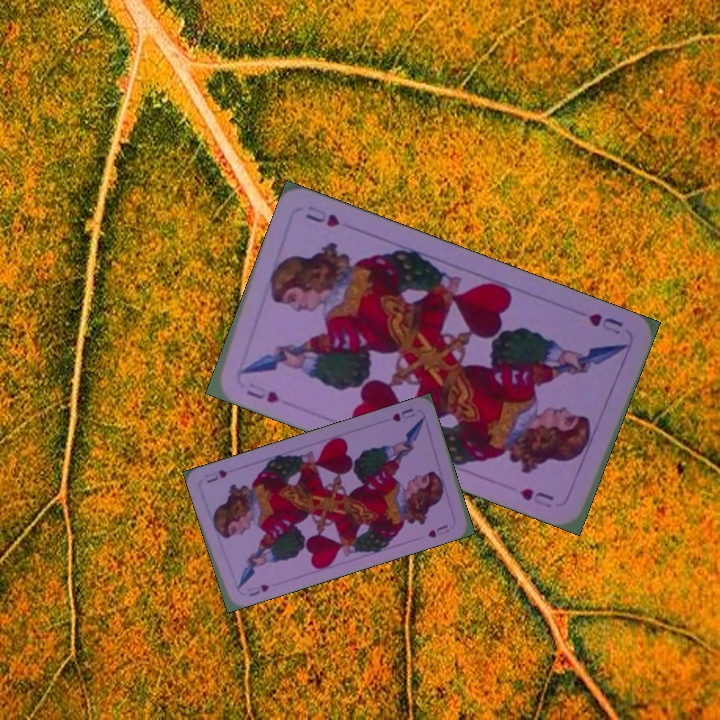HU: (583, 309, 626, 337), (242, 378, 282, 406), (235, 580, 272, 599), (388, 404, 417, 424)
